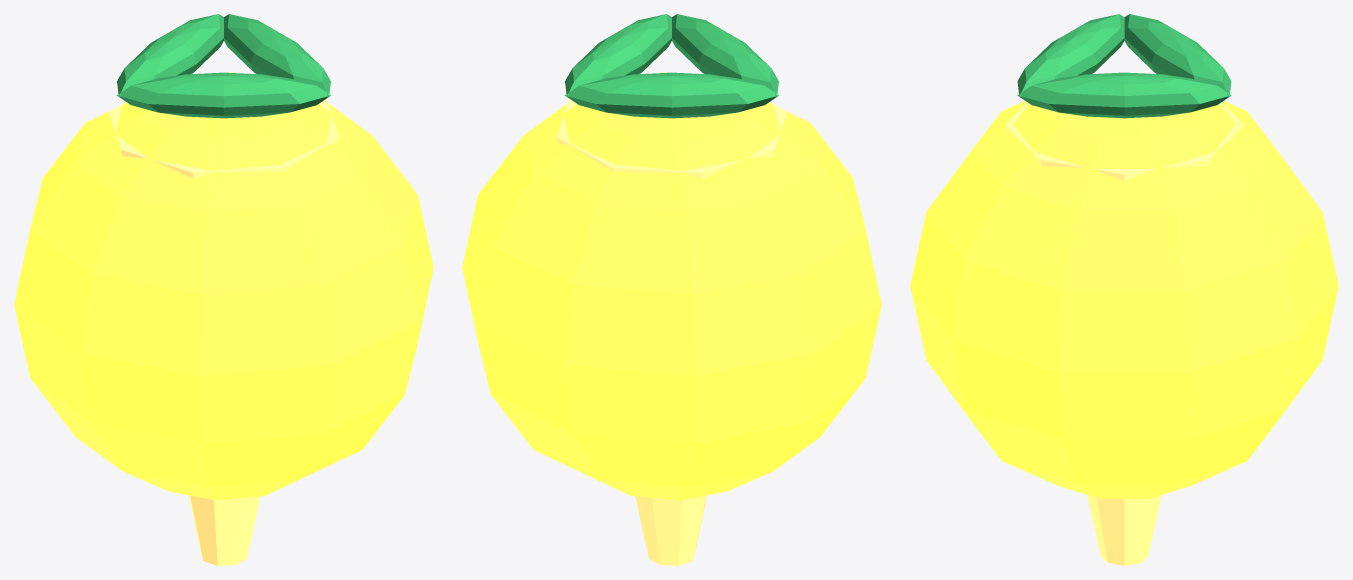
Rendered from prop_luminos_carrot.fbx.
3 renders of one model, left to right at view 1: azimuth 30°, elevation 25°; view 2: azimuth 150°, elevation 25°; view 3: azimuth 270°, elevation 25°, orthographic.
Parts seen in each view (by area): view 1: L_Carrot_Glow, L_Carrot_Leaf_2, L_Carrot_Body, L_Carrot_Leaf_0, L_Carrot_Leaf_1; view 2: L_Carrot_Glow, L_Carrot_Leaf_1, L_Carrot_Body, L_Carrot_Leaf_0, L_Carrot_Leaf_2; view 3: L_Carrot_Glow, L_Carrot_Leaf_0, L_Carrot_Body, L_Carrot_Leaf_1, L_Carrot_Leaf_2.
Boxes of the visible parts, <box> form: L_Carrot_Glow: <box>14,72,433,500</box>; L_Carrot_Leaf_2: <box>117,72,330,118</box>; L_Carrot_Body: <box>109,99,338,565</box>; L_Carrot_Leaf_0: <box>224,14,330,97</box>; L_Carrot_Leaf_1: <box>117,14,223,97</box>; L_Carrot_Glow: <box>462,72,881,500</box>; L_Carrot_Leaf_1: <box>565,72,778,118</box>; L_Carrot_Body: <box>557,99,786,565</box>; L_Carrot_Leaf_0: <box>565,14,671,97</box>; L_Carrot_Leaf_2: <box>672,14,778,97</box>; L_Carrot_Glow: <box>910,101,1338,498</box>; L_Carrot_Leaf_0: <box>1017,72,1231,118</box>; L_Carrot_Body: <box>1005,102,1243,565</box>; L_Carrot_Leaf_1: <box>1124,14,1231,97</box>; L_Carrot_Leaf_2: <box>1017,14,1124,97</box>.
Bounding box in the file's own units: 0.3424 × 0.468 × 0.36.
